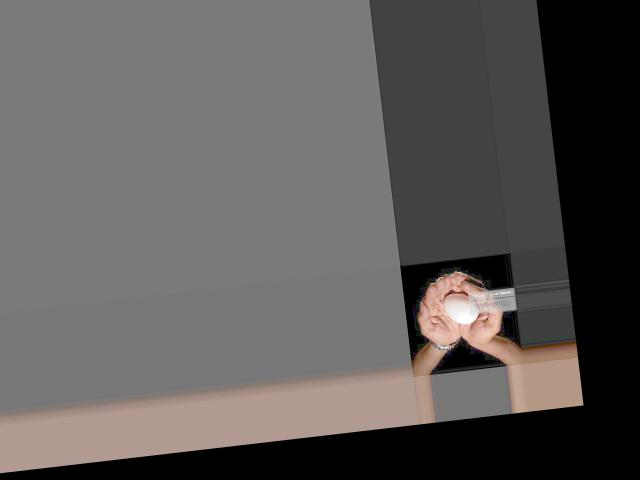egg: (442, 289, 479, 326)
